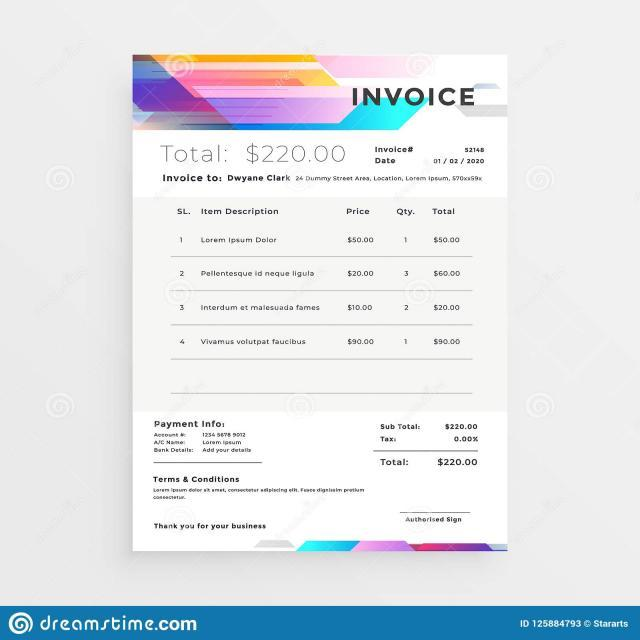customer_address: (293, 172, 486, 185)
customer_name: (224, 173, 292, 186)
invoice_date: (429, 156, 492, 166)
invoice_number: (460, 142, 488, 154)
invoice_subtotal: (438, 421, 482, 434)
invoice_total: (418, 456, 486, 474)
item_description: (194, 229, 328, 357)
item_quantity: (392, 230, 418, 353)
item_total_price: (428, 232, 476, 350)
item_unit_price: (340, 232, 380, 353)
supplier_name: (350, 82, 478, 111)
tax_rate: (434, 435, 496, 448)
